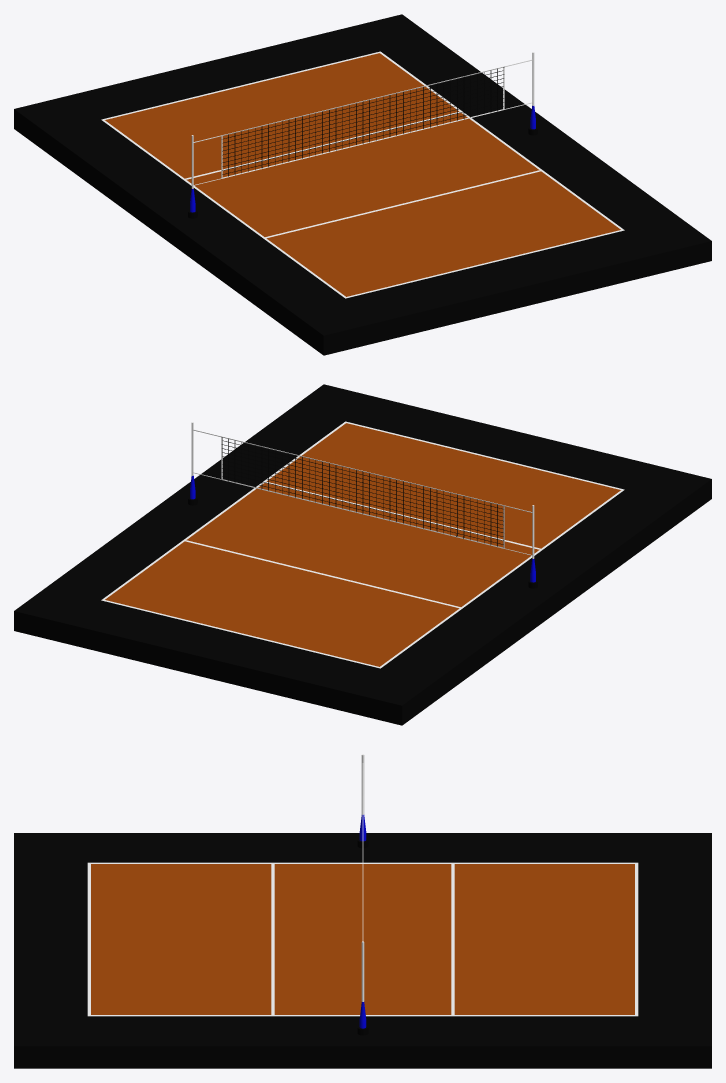
Rendered from volleyball-2.fbx.
The picture shows the model from 3 angles, top to bottom: view 1: azimuth 30°, elevation 25°; view 2: azimuth 150°, elevation 25°; view 3: azimuth 270°, elevation 25°; orthographic projection. The views are drawn at different scales.
Parts seen in each view (by area): view 1: fllor, net; view 2: fllor, net; view 3: fllor, net.
Boxes of the visible parts, x1,y1,x2,y2 form: fllor: (14,14,711,355); net: (188,52,537,218); fllor: (14,384,711,725); net: (188,422,537,588); fllor: (14,833,711,1068); net: (357,754,368,1035).
Size of the model in its own units: 4436 by 1102 by 6132.
